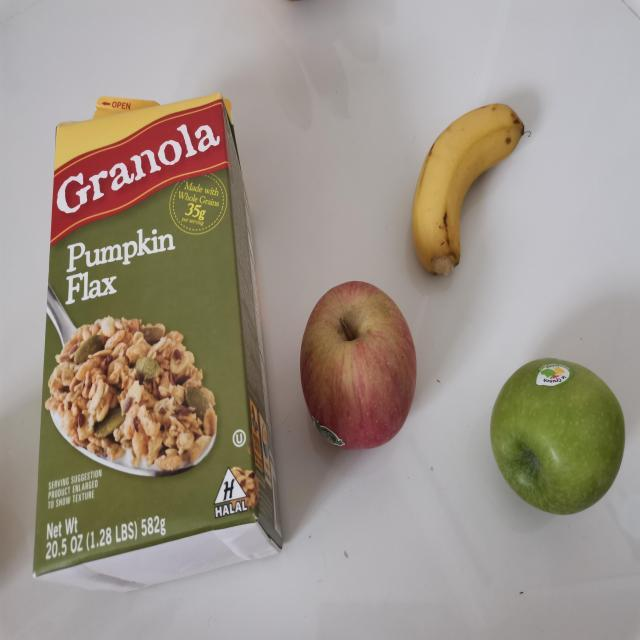Apple: (486, 353, 626, 516), (296, 279, 421, 453)
Banana: (408, 99, 530, 279)
Cerealbox: (28, 94, 287, 594)
